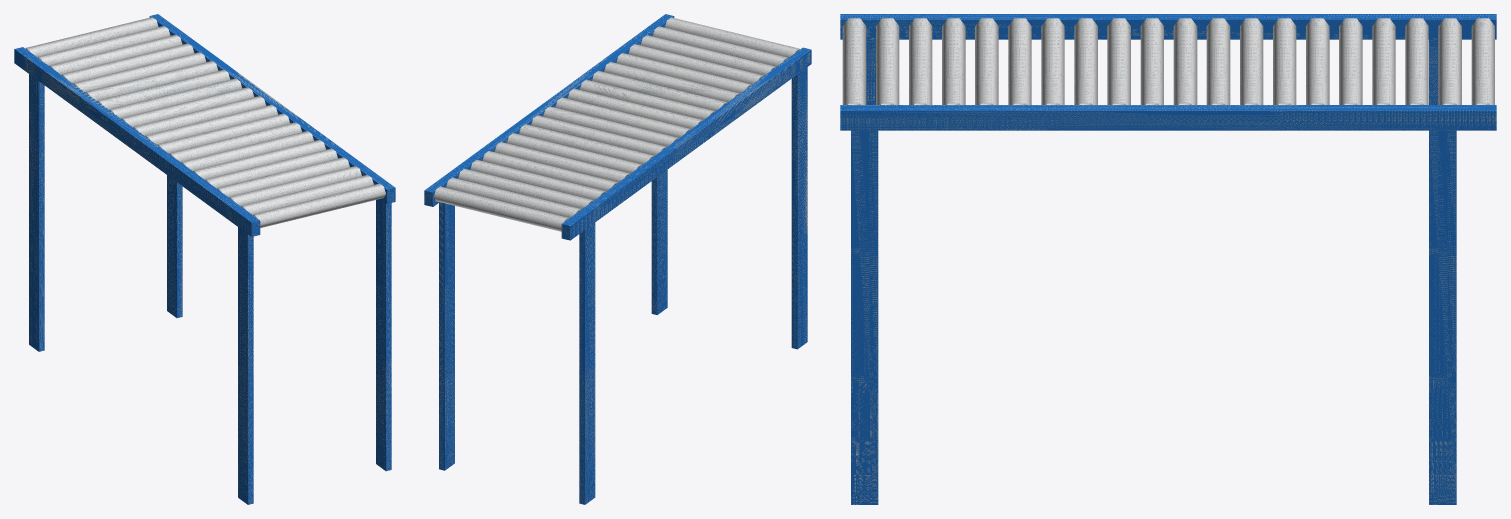
The model's file is conveyer_style_2.fbx.
The picture shows the model from 3 angles, left to right: view 1: azimuth 30°, elevation 25°; view 2: azimuth 150°, elevation 25°; view 3: azimuth 270°, elevation 25°; orthographic projection. The views are drawn at different scales.
Parts seen in each view (by area): view 1: barre_de_convoyeur_2_2, Barre_hauteur_conv_2_3, Barre_hauteur_conv_2_1, Barre_hauteur_conv_2_2, barre_de_convoyeur_2_1, Barre_hauteur_conv_2_4, barre_conv_2_20, barre_conv_2_1, barre_conv_2_3, barre_conv_2_4, barre_conv_2_8, barre_conv_2_12 (+14 smaller); view 2: barre_de_convoyeur_2_2, Barre_hauteur_conv_2_1, Barre_hauteur_conv_2_3, Barre_hauteur_conv_2_4, barre_de_convoyeur_2_1, Barre_hauteur_conv_2_2, barre_conv_2_1, barre_conv_2_5, barre_conv_2_10, barre_conv_2_11, barre_conv_2_13, barre_conv_2_15 (+14 smaller); view 3: barre_de_convoyeur_2_1, Barre_hauteur_conv_2_4, Barre_hauteur_conv_2_2, barre_de_convoyeur_2_2, barre_conv_2_9, barre_conv_2_20, barre_conv_2_10, barre_conv_2_12, barre_conv_2_1, barre_conv_2_6, barre_conv_2_17, barre_conv_2_2 (+12 smaller).
Boxes of the visible parts, <box> form: barre_de_convoyeur_2_2: <box>14,47,260,236</box>; Barre_hauteur_conv_2_3: <box>238,227,253,504</box>; Barre_hauteur_conv_2_1: <box>29,74,44,351</box>; Barre_hauteur_conv_2_2: <box>376,199,391,471</box>; barre_de_convoyeur_2_1: <box>149,14,395,203</box>; Barre_hauteur_conv_2_4: <box>167,175,182,317</box>; barre_conv_2_20: <box>253,183,385,227</box>; barre_conv_2_1: <box>25,17,158,57</box>; barre_conv_2_3: <box>49,34,182,74</box>; barre_conv_2_4: <box>61,43,194,83</box>; barre_conv_2_8: <box>109,78,242,118</box>; barre_conv_2_12: <box>157,113,289,153</box>; barre_de_convoyeur_2_2: <box>561,47,811,240</box>; Barre_hauteur_conv_2_1: <box>579,223,595,504</box>; Barre_hauteur_conv_2_3: <box>791,67,807,349</box>; Barre_hauteur_conv_2_4: <box>439,202,454,470</box>; barre_de_convoyeur_2_1: <box>424,14,674,206</box>; Barre_hauteur_conv_2_2: <box>651,170,667,315</box>; barre_conv_2_1: <box>434,186,568,231</box>; barre_conv_2_5: <box>482,151,617,191</box>; barre_conv_2_10: <box>543,106,678,146</box>; barre_conv_2_11: <box>555,97,690,138</box>; barre_conv_2_13: <box>580,79,714,120</box>; barre_conv_2_15: <box>604,62,739,102</box>; barre_de_convoyeur_2_1: <box>840,105,1496,130</box>; Barre_hauteur_conv_2_4: <box>1429,130,1456,504</box>; Barre_hauteur_conv_2_2: <box>851,130,878,504</box>; barre_de_convoyeur_2_2: <box>840,14,1496,39</box>; barre_conv_2_9: <box>1206,18,1230,104</box>; barre_conv_2_20: <box>842,18,866,104</box>; barre_conv_2_10: <box>1173,18,1197,104</box>; barre_conv_2_12: <box>1107,18,1130,104</box>; barre_conv_2_1: <box>1471,18,1494,104</box>; barre_conv_2_6: <box>1306,18,1329,104</box>; barre_conv_2_17: <box>942,18,965,104</box>; barre_conv_2_2: <box>1438,18,1461,104</box>.
Size of the model in its own units: 50 by 95.08 by 143.
